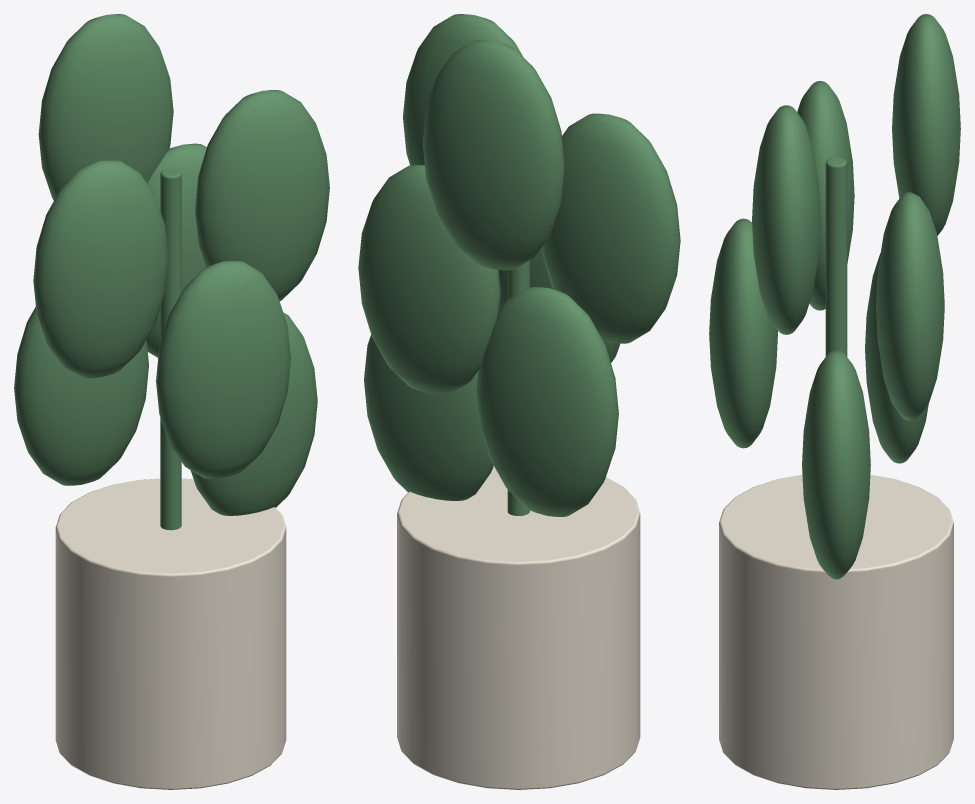
The model's file is ikea_fejka_plant_60615246.glb.
3 renders of one model, left to right at view 1: azimuth 30°, elevation 25°; view 2: azimuth 150°, elevation 25°; view 3: azimuth 270°, elevation 25°, orthographic. The views are drawn at different scales.
Visible parts, largest first — view 1: pot.002, leaf.011, leaf.009, leaf.012, leaf.013, leaf.008, leaf.007, stem.002, leaf.010; view 2: pot.002, leaf.013, leaf.008, leaf.011, leaf.010, leaf.007, leaf.012, leaf.009, stem.002; view 3: pot.002, leaf.012, leaf.010, leaf.007, leaf.013, leaf.009, leaf.011, stem.002, leaf.008.
Part boxes in pixels (box(x1,y1,x2,y2)): pot.002: box(55, 478, 286, 789); leaf.011: box(33, 160, 168, 378); leaf.009: box(156, 260, 290, 478); leaf.012: box(195, 90, 329, 300); leaf.013: box(38, 14, 173, 200); leaf.008: box(14, 306, 148, 485); leaf.007: box(190, 312, 317, 515); stem.002: box(160, 168, 181, 530); leaf.010: box(146, 143, 206, 357); pot.002: box(397, 466, 640, 789); leaf.013: box(422, 40, 564, 270); leaf.008: box(476, 287, 618, 516); leaf.011: box(541, 113, 680, 343); leaf.010: box(358, 164, 500, 394); leaf.007: box(364, 335, 493, 500); leaf.012: box(403, 14, 522, 165); leaf.009: box(498, 248, 619, 362); stem.002: box(507, 260, 529, 515); pot.002: box(719, 475, 953, 789); leaf.012: box(752, 105, 820, 334); leaf.010: box(876, 192, 944, 420); leaf.007: box(802, 350, 870, 579); leaf.013: box(892, 14, 960, 235); leaf.009: box(709, 218, 777, 448); leaf.011: box(797, 81, 854, 310); stem.002: box(825, 157, 847, 356); leaf.008: box(865, 253, 928, 463).
Bounding box in the file's own units: 0.3764 × 0.873 × 0.2795.
